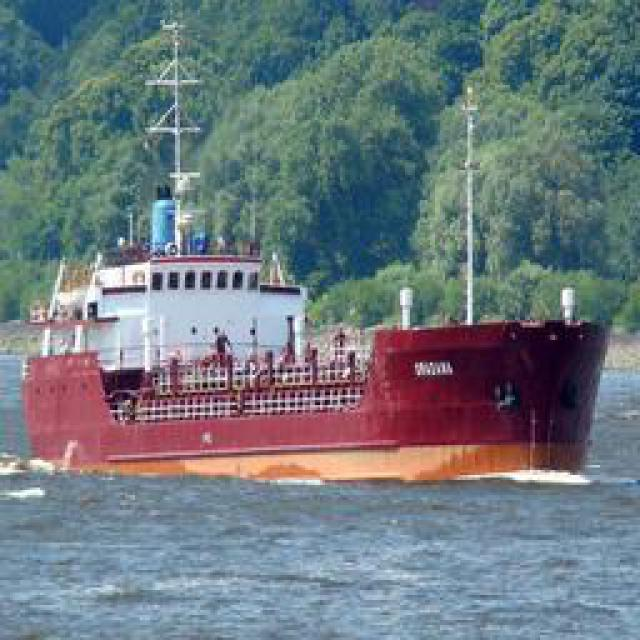Ship: (22, 247, 612, 485)
